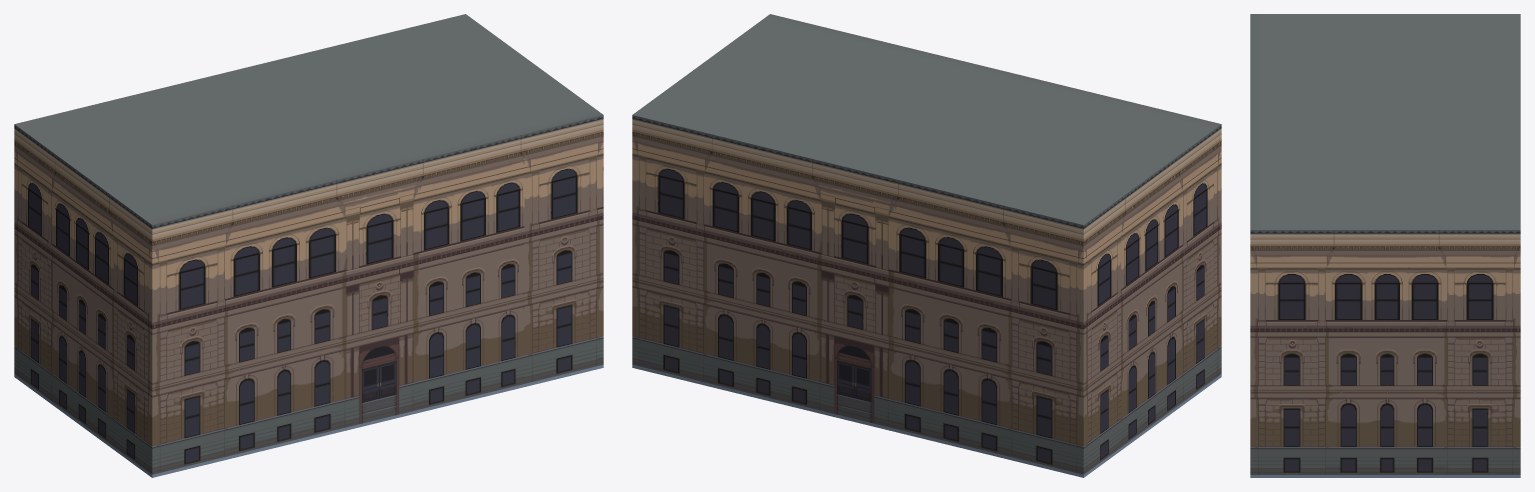
The model's file is beigebuilding.glb.
The picture shows the model from 3 angles, left to right: view 1: azimuth 30°, elevation 25°; view 2: azimuth 150°, elevation 25°; view 3: azimuth 270°, elevation 25°; orthographic projection.
Visible parts, largest first — view 1: Cube; view 2: Cube; view 3: Cube.
Part boxes in pixels (x1,y1,x2,y2): Cube: [14, 14, 603, 477]; Cube: [632, 14, 1221, 477]; Cube: [1250, 14, 1520, 477].
Size of the model in its own units: 30.27 by 16.2 by 16.01.
Materials: 1 (1 with a texture image).
